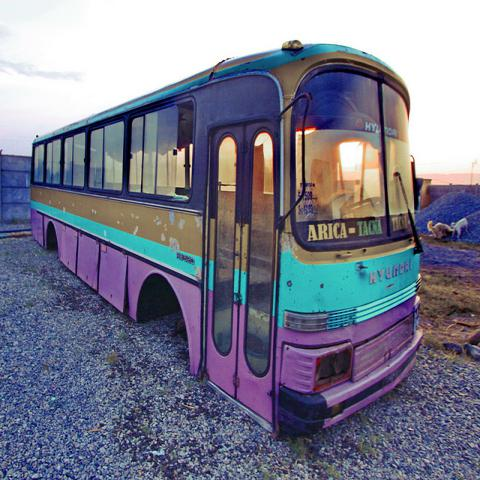bus: (30, 47, 423, 434)
